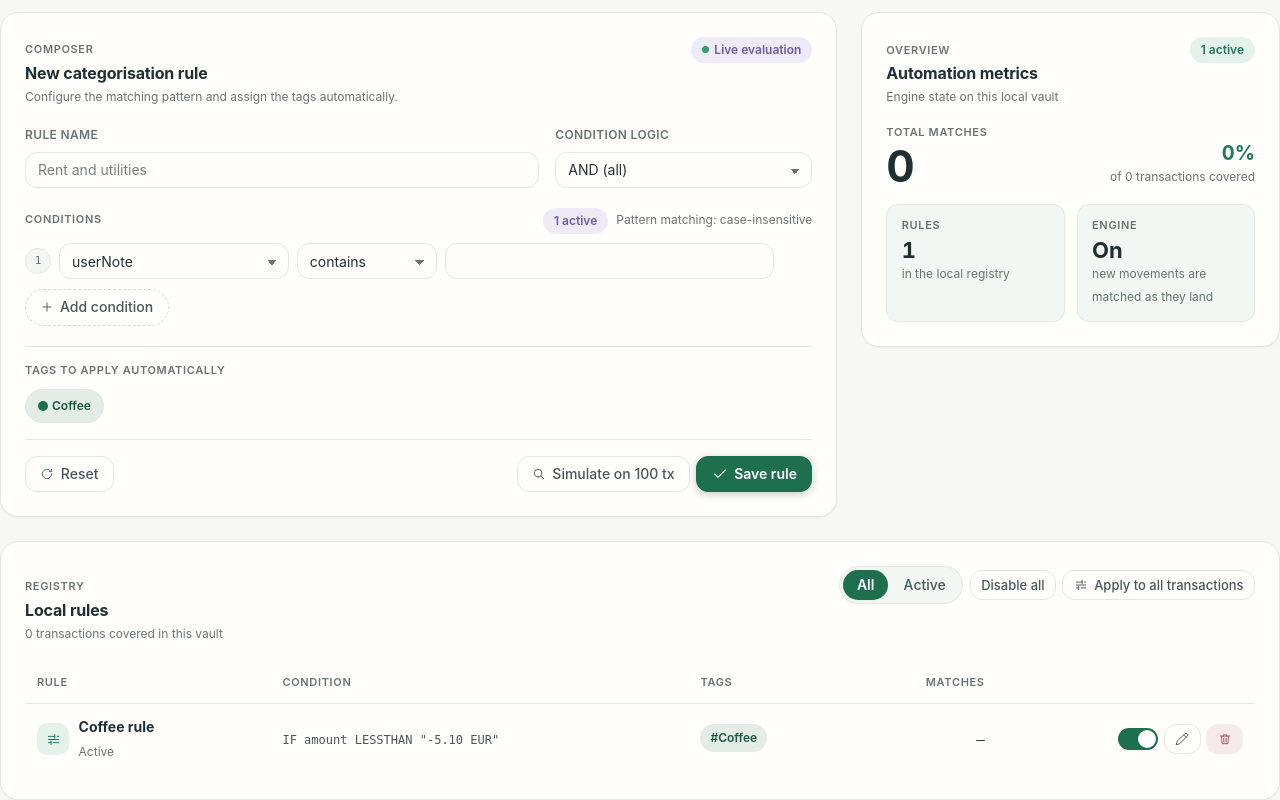
rules view › round-trips a stored amount condition through the edit dialog
(page scrolled)
Expected: the text "Coffee rule" is shown, 79,716 -> 154,738
Click the button named "Edit rule Coffee rule".
click(1182, 740)  # box 1164,724 -> 1201,754
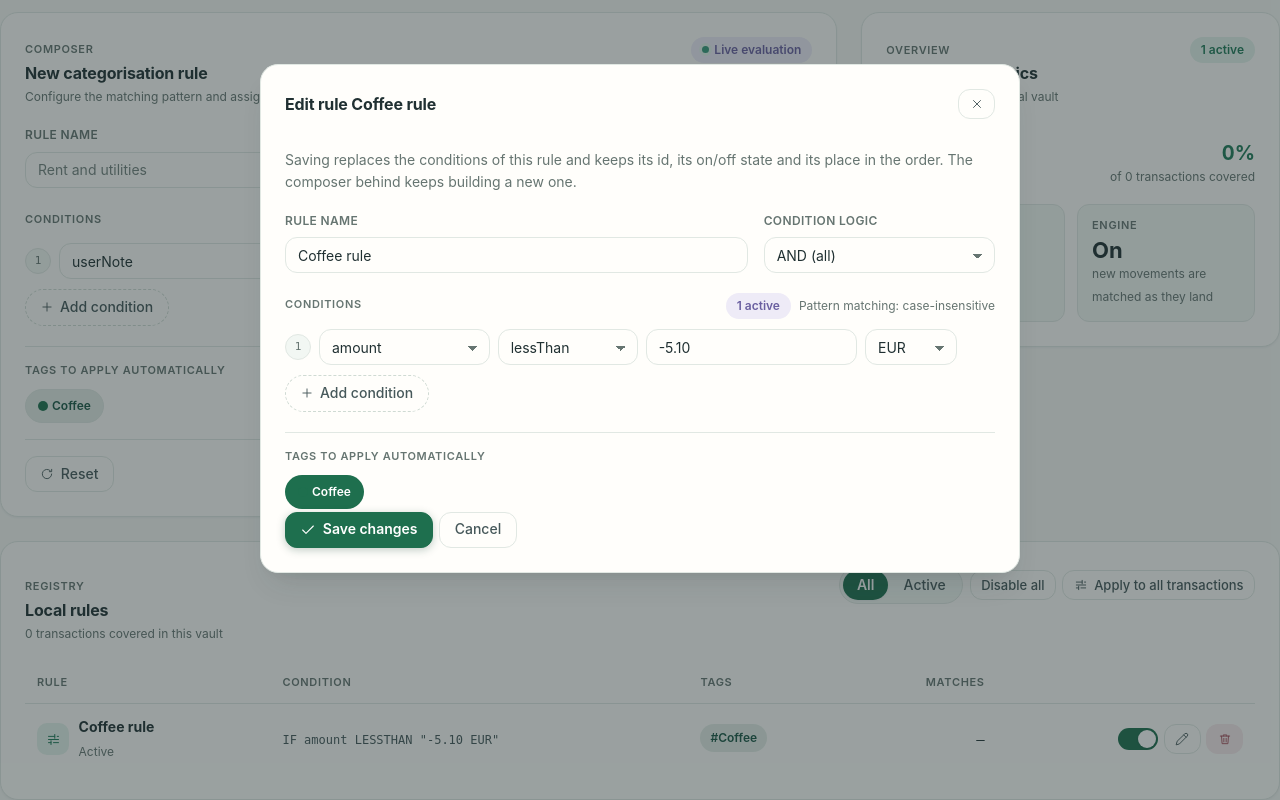
Now the dropdown named "Field 1" shows "amount", box 319,329 -> 490,365
Now the field named "Value 1" holds "-5.10", box 646,329 -> 857,365
Now the dropdown named "Currency 1" shows "EUR", box 865,329 -> 957,365
Click the button "Save changes".
click(359, 530)  # box 285,512 -> 433,548
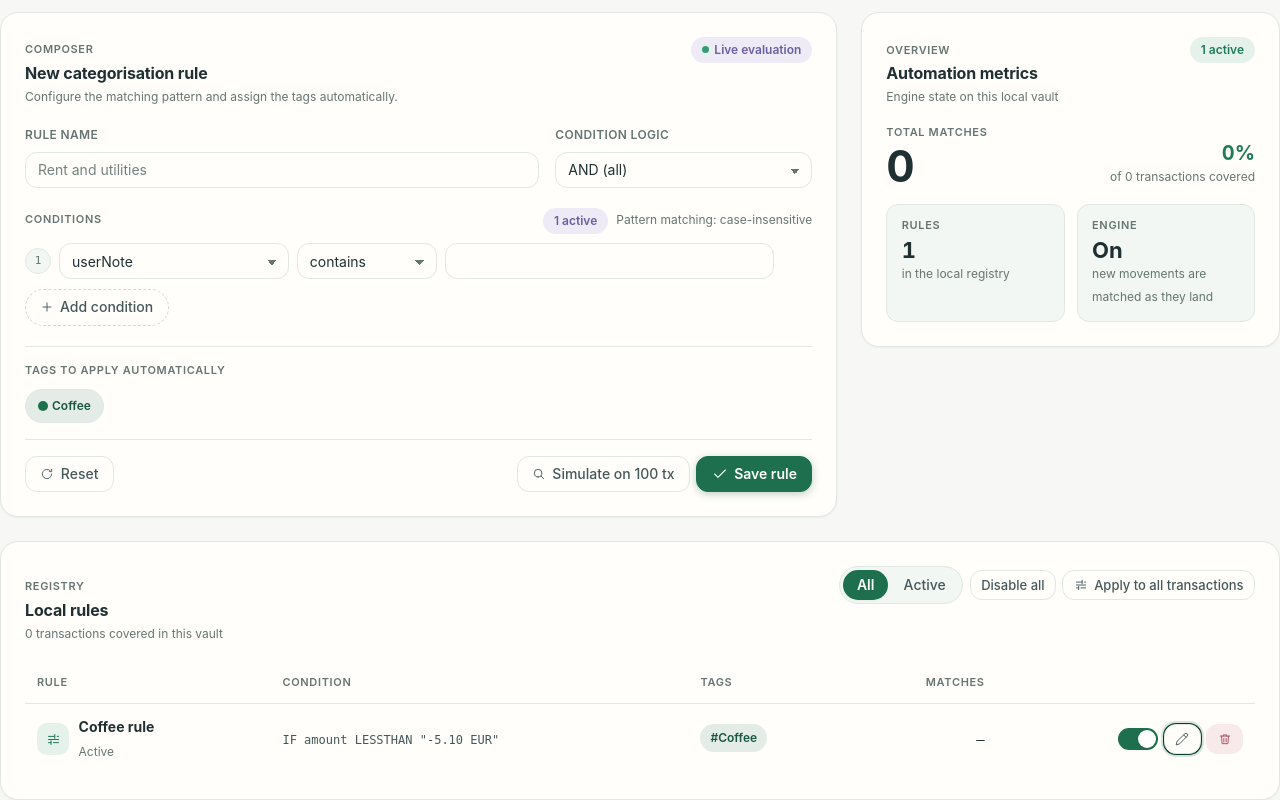
Now the dialog is gone
